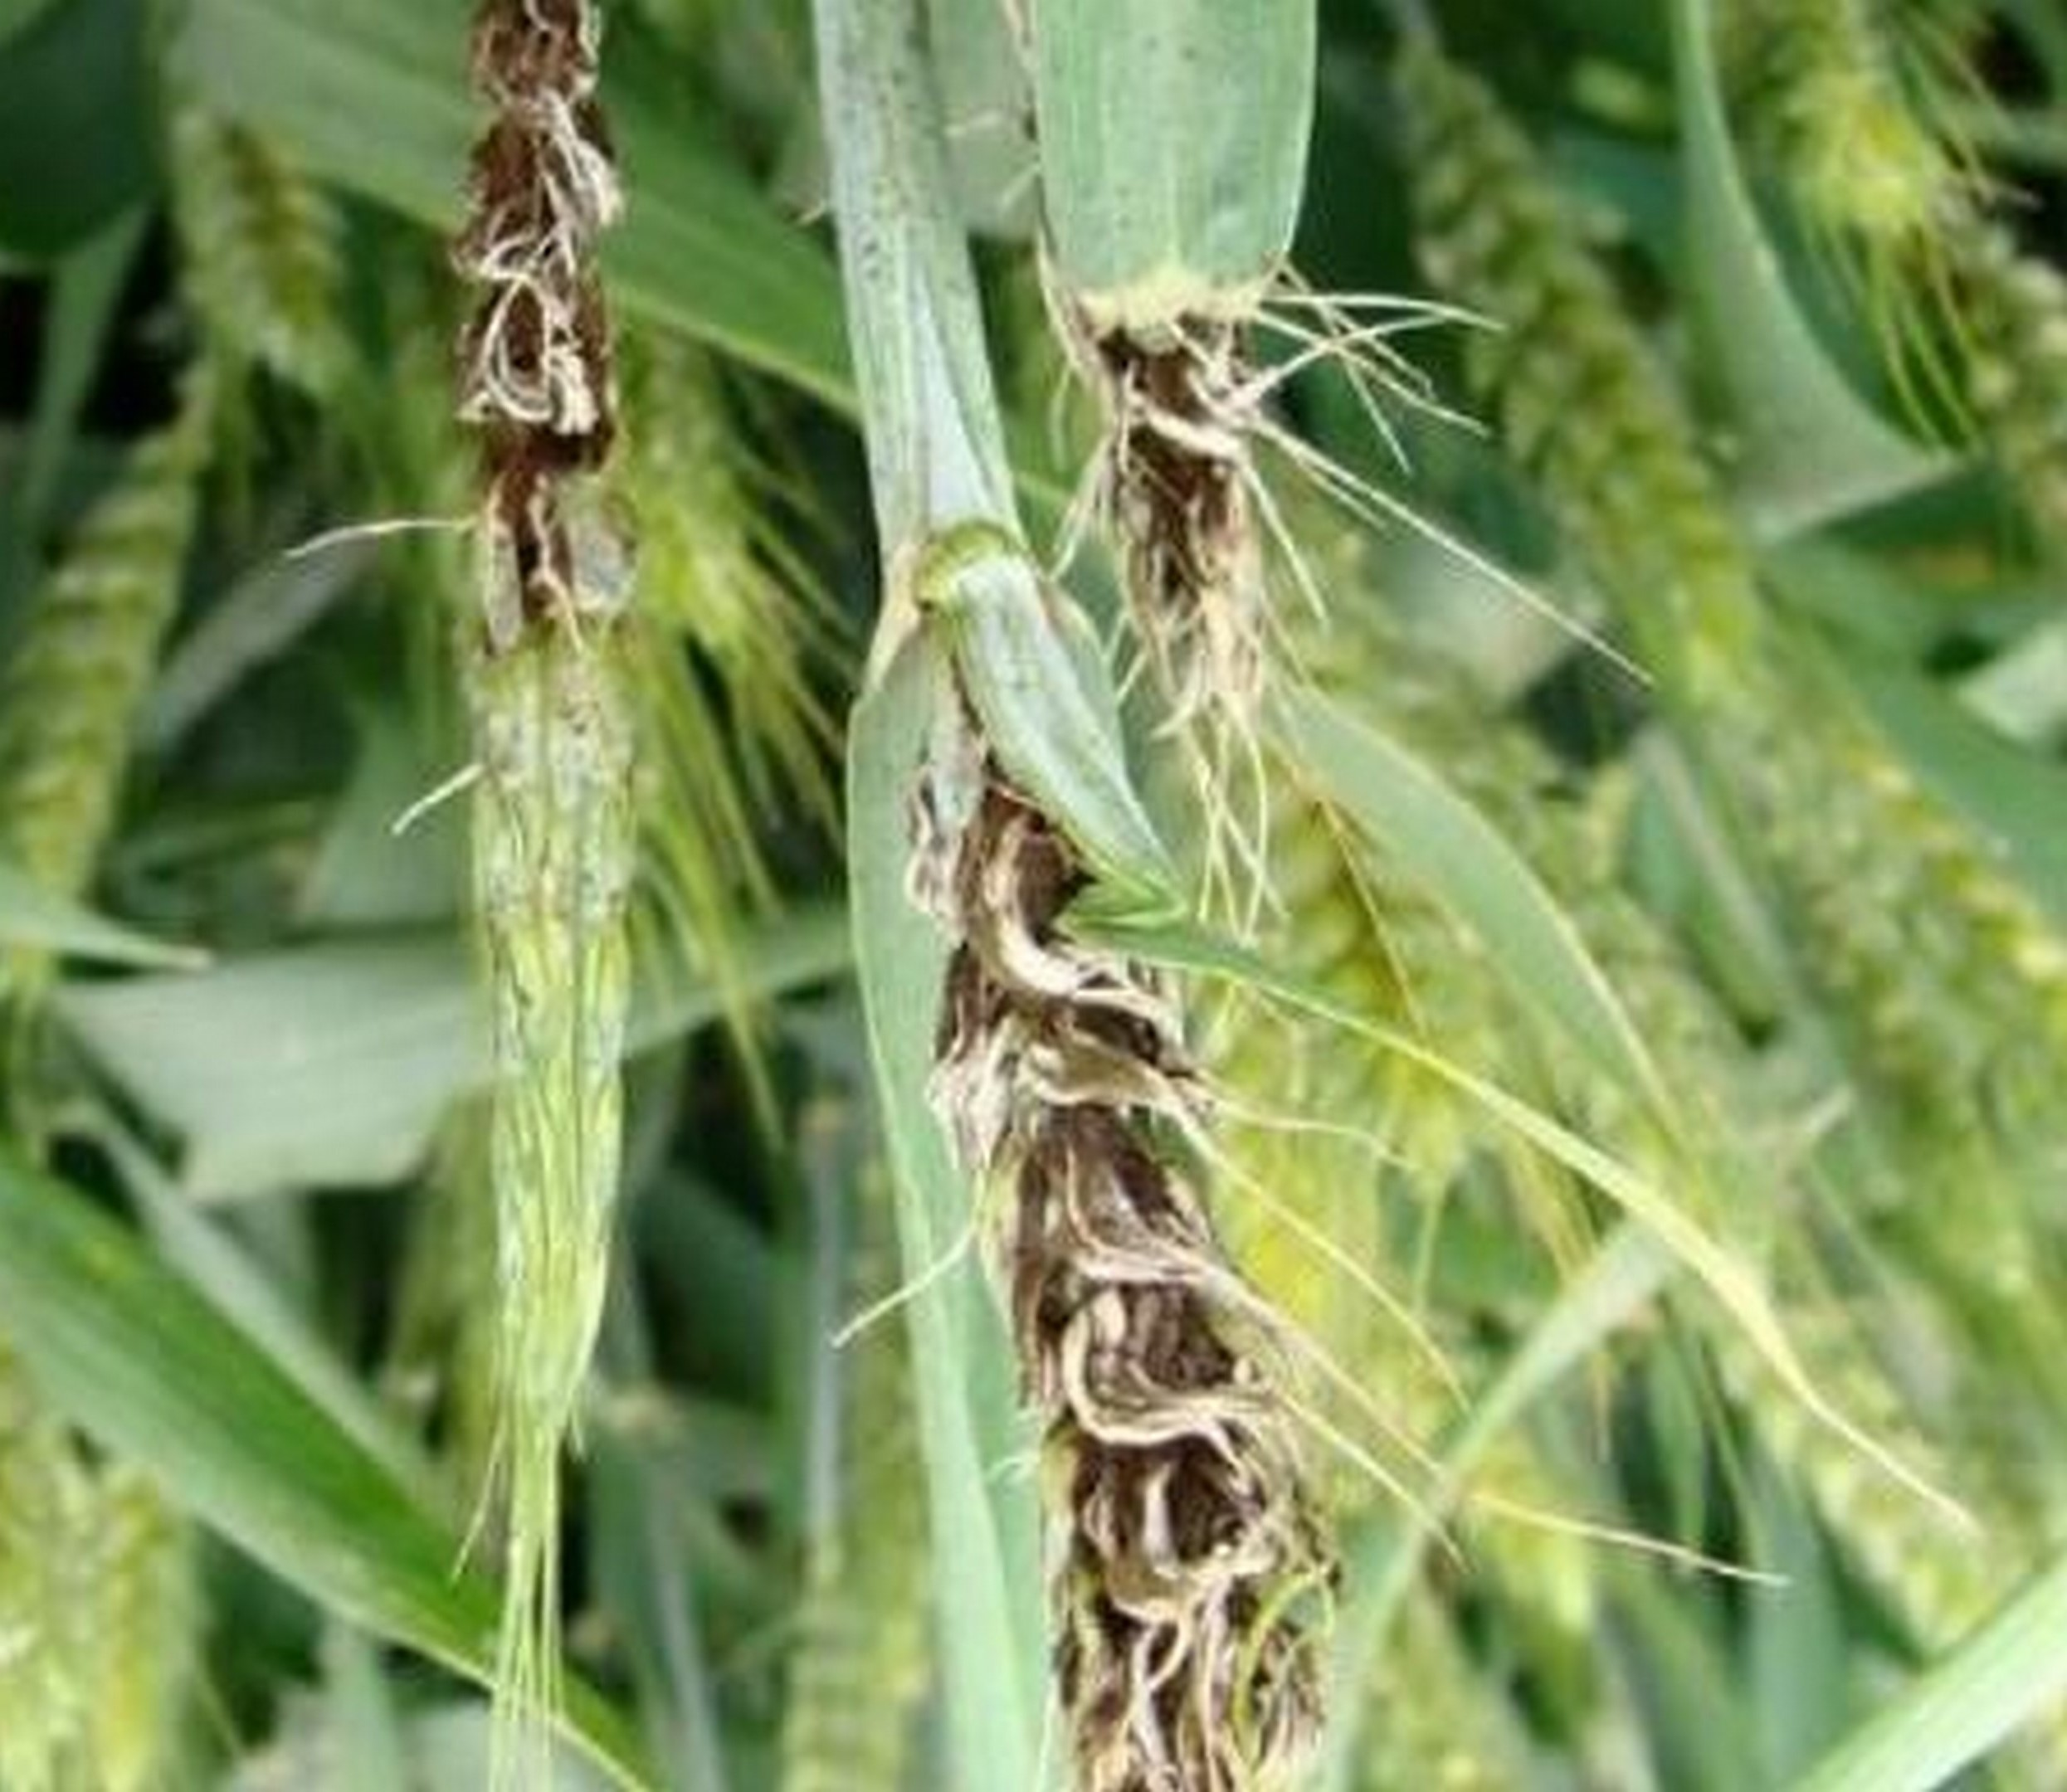Wheat Loose Smut: (891, 801, 1357, 1792)
